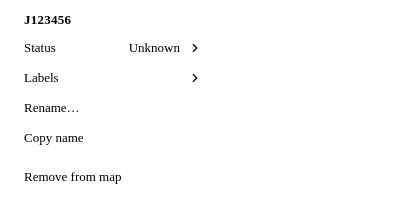
ContextMenu › opens a submenu on hover after a short delay, and only one at a time
Hover over the menu item "Status Unknown" at (112,48), box [16,33,208,63]
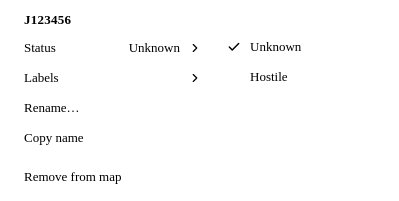
Expected: the menu named "Status" is shown, [214,28,382,96]
Hover over the menu item "Labels" at (112,78), box [16,63,208,93]
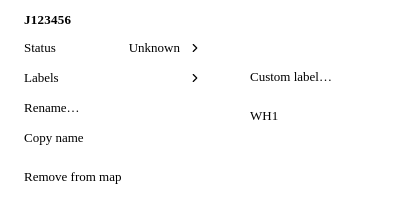
Expected: the menu named "Labels" is shown, [214,58,382,135]
